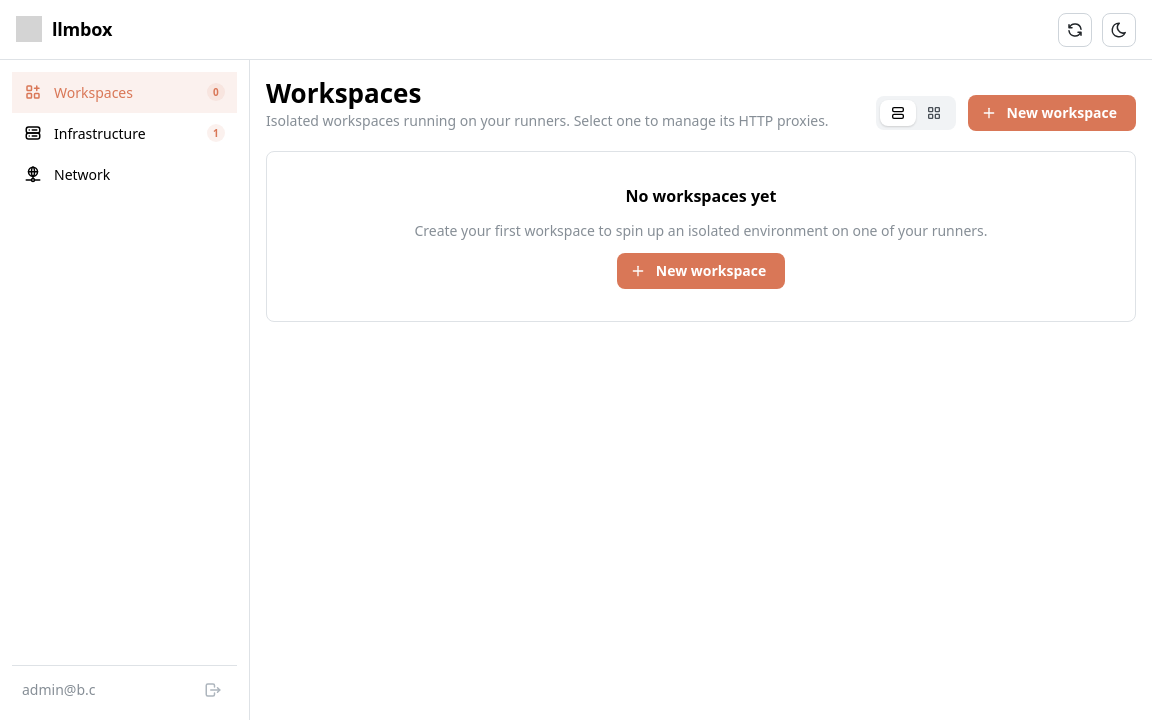
Test: Dashboard › switches to the infrastructure view
Click the text "Infrastructure": (100, 133) [54,124,146,143]
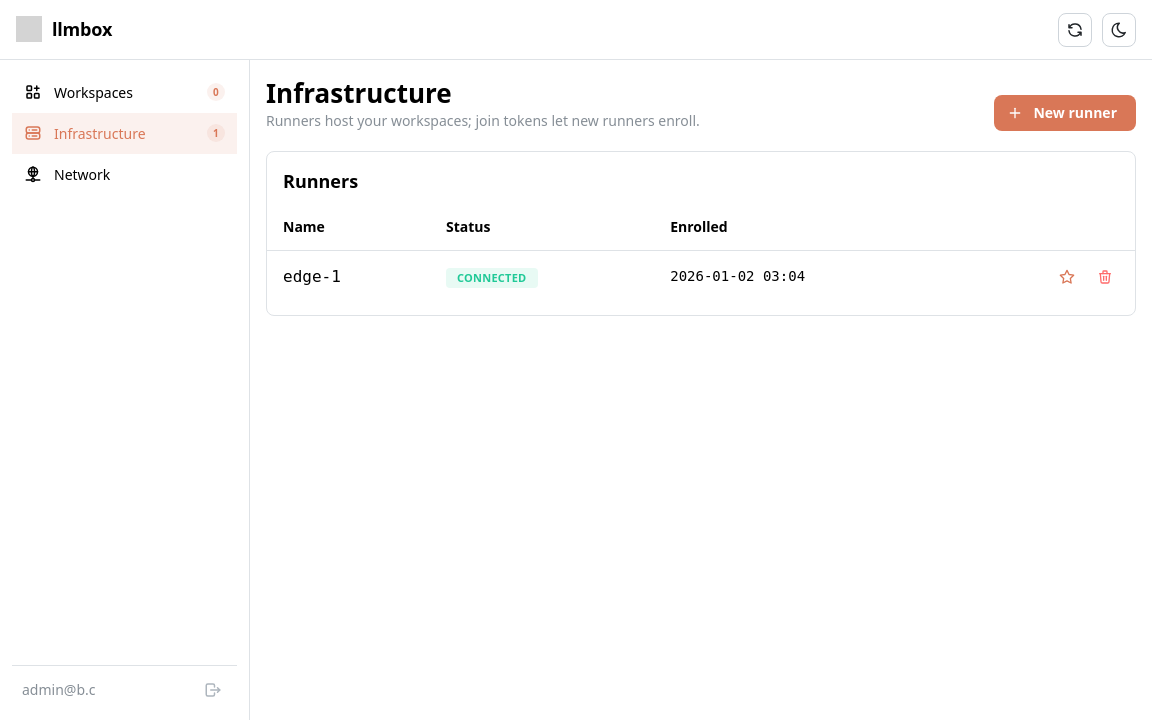
expect the heading "Runners" is shown: met, box [283,168,358,194]
expect the text "edge-1" is shown: met, box [283,265,341,290]
